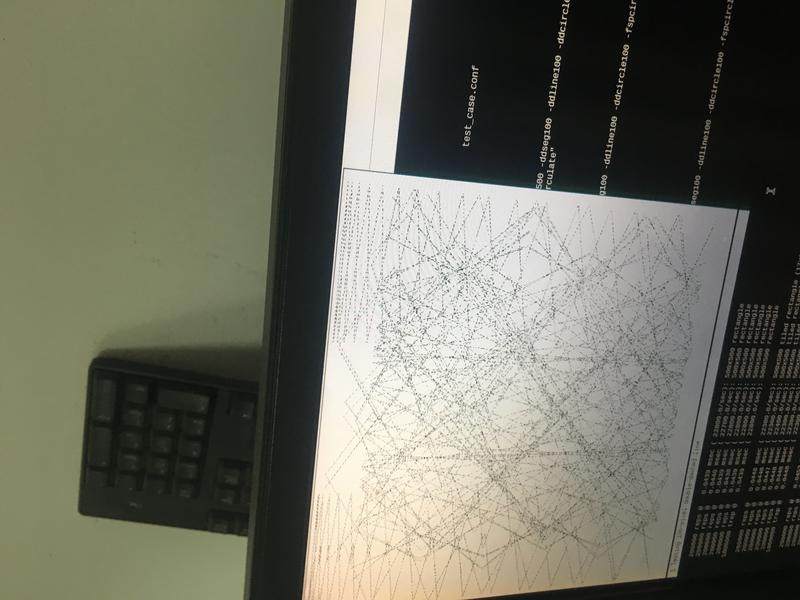xrandr_pass: (299, 158, 754, 600)
